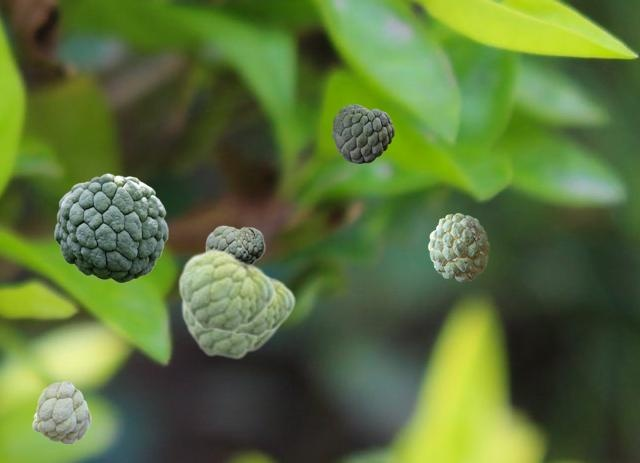atis: (54, 173, 167, 282), (177, 248, 274, 333), (180, 299, 282, 359), (428, 213, 488, 280), (233, 273, 294, 337), (32, 381, 90, 443), (332, 104, 393, 162), (205, 225, 264, 263)
